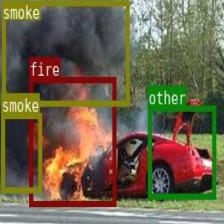fire: (29, 76, 115, 206)
smoke: (1, 0, 128, 105), (0, 113, 41, 192)
